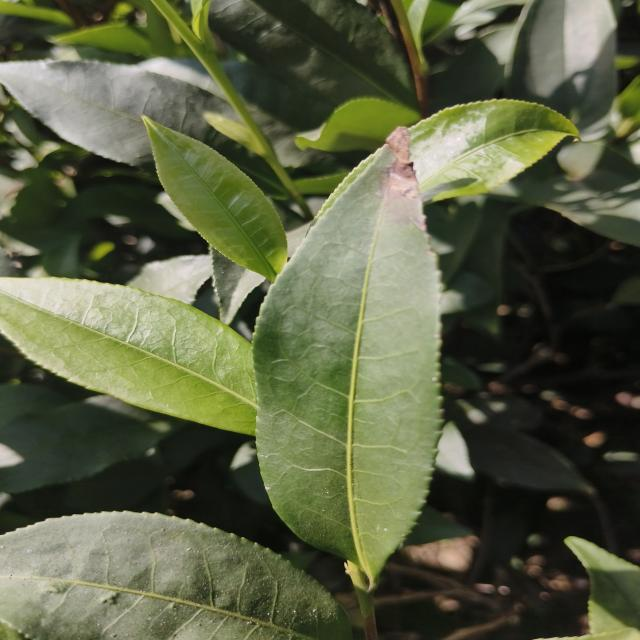Leaf: (253, 127, 440, 588), (0, 512, 351, 640), (0, 278, 256, 435), (0, 60, 288, 198), (143, 116, 287, 282), (209, 0, 417, 109), (409, 99, 577, 202), (0, 396, 175, 494), (222, 61, 368, 175), (523, 0, 617, 129), (461, 425, 593, 493), (565, 536, 640, 634), (295, 98, 419, 153), (137, 57, 239, 120), (127, 254, 213, 304), (43, 234, 81, 278)
